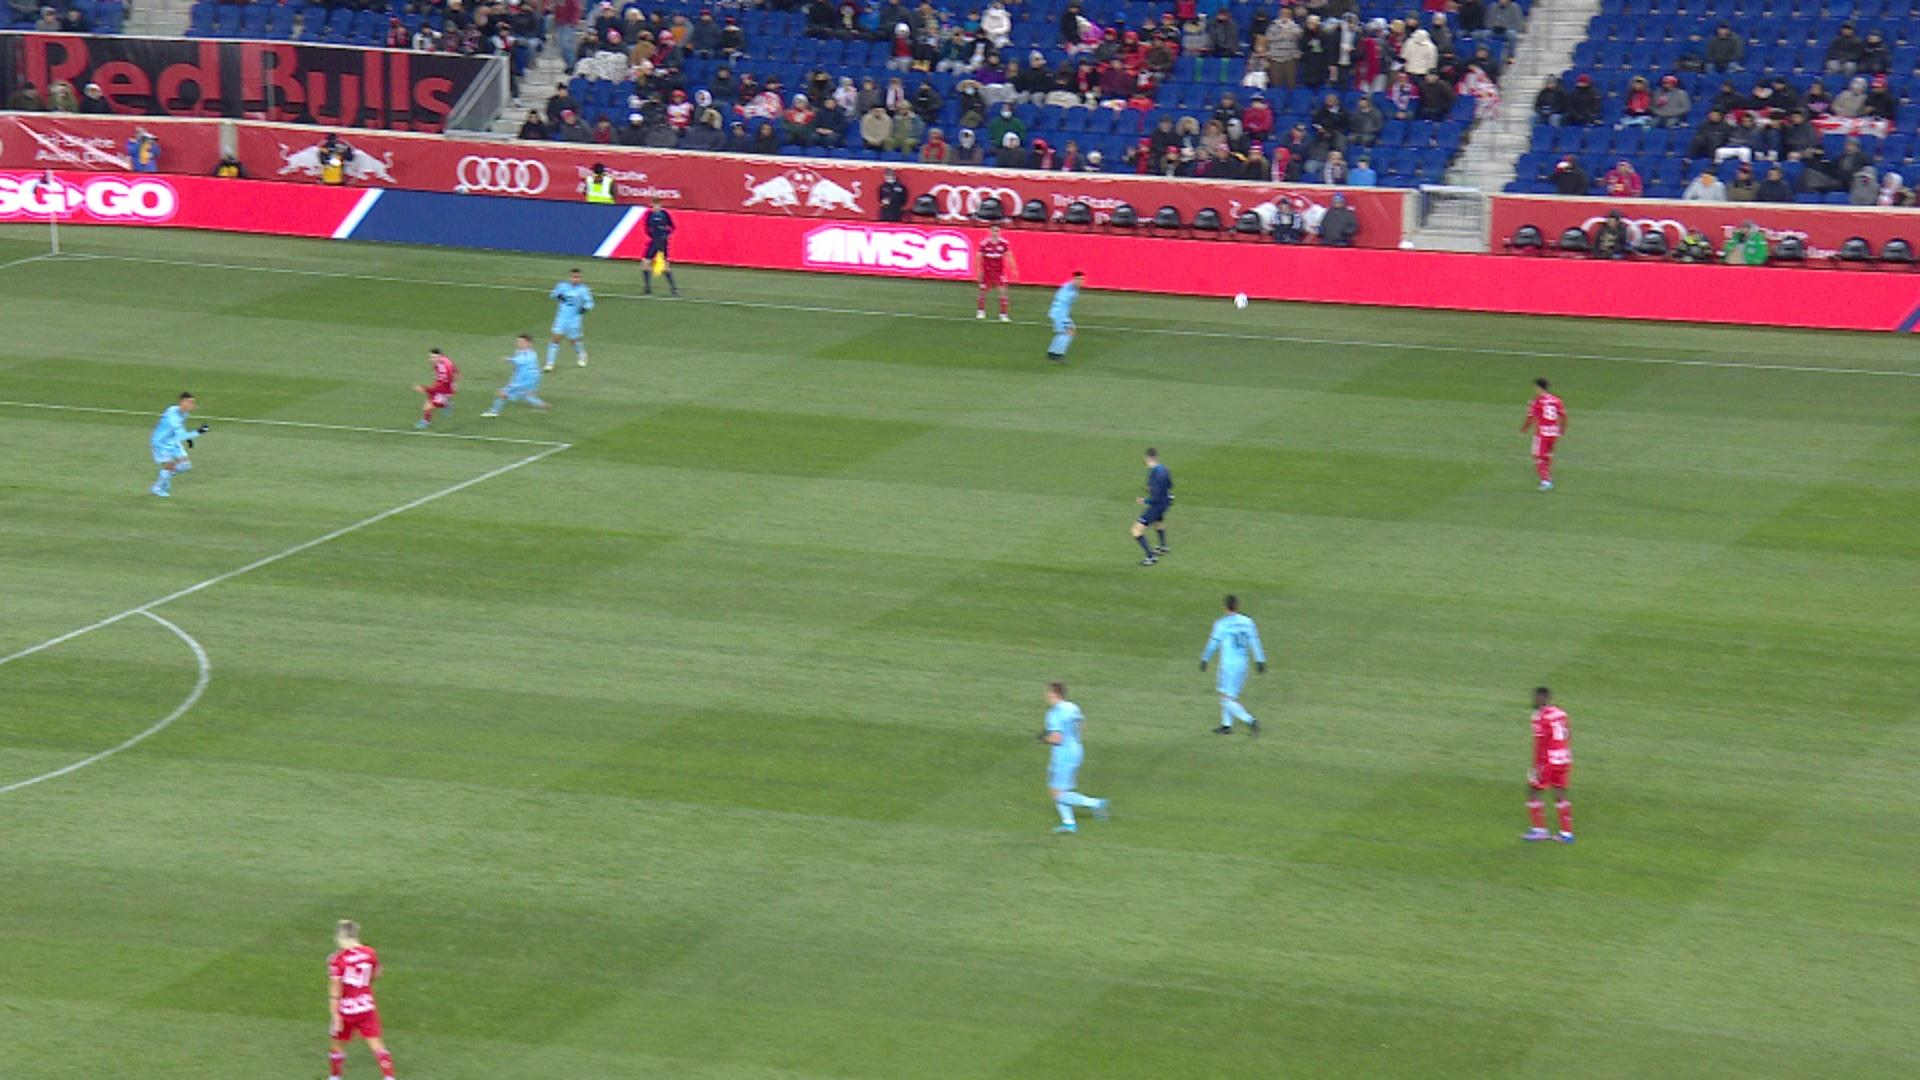football: (1233, 291, 1249, 310)
